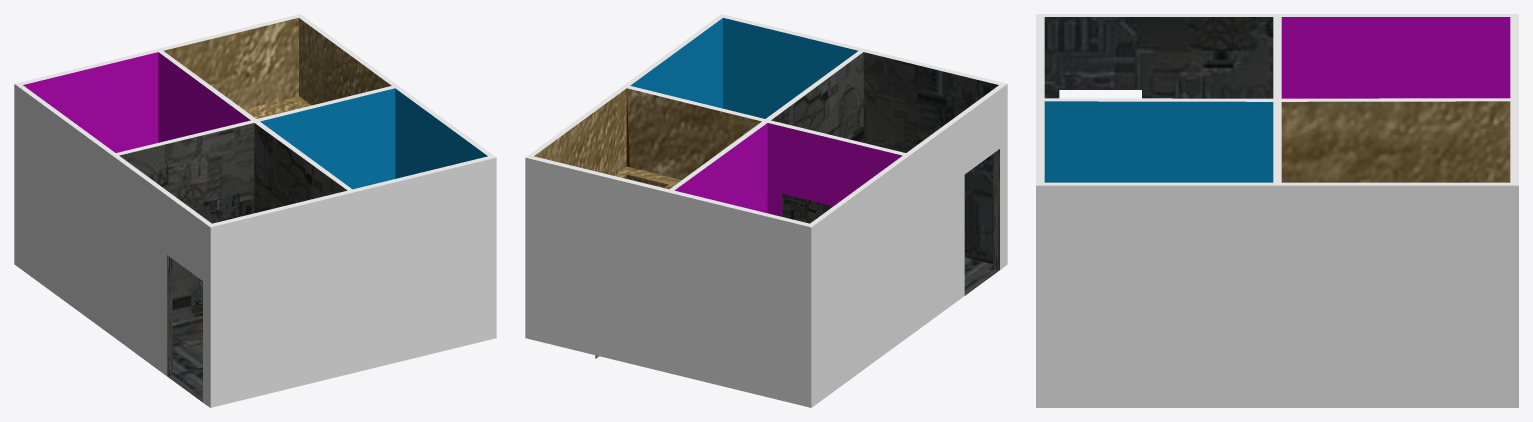
File: escaperoom (1).fbx
3 renders of one model, left to right at view 1: azimuth 30°, elevation 25°; view 2: azimuth 150°, elevation 25°; view 3: azimuth 270°, elevation 25°, orthographic. The views are drawn at different scales.
Parts seen in each view (by area): view 1: Cube.004, Cube.003; view 2: Cube.004, Cube.003; view 3: Cube.004.
Boxes of the visible parts, x1=… form: Cube.004: x1=14, y1=14, x2=496, y2=407; Cube.003: x1=191, y1=194, x2=238, y2=314; Cube.004: x1=525, y1=14, x2=1007, y2=407; Cube.003: x1=782, y1=194, x2=830, y2=223; Cube.004: x1=1036, y1=14, x2=1518, y2=407.
Bounding box in the file's own units: 995 × 617 × 1182.
